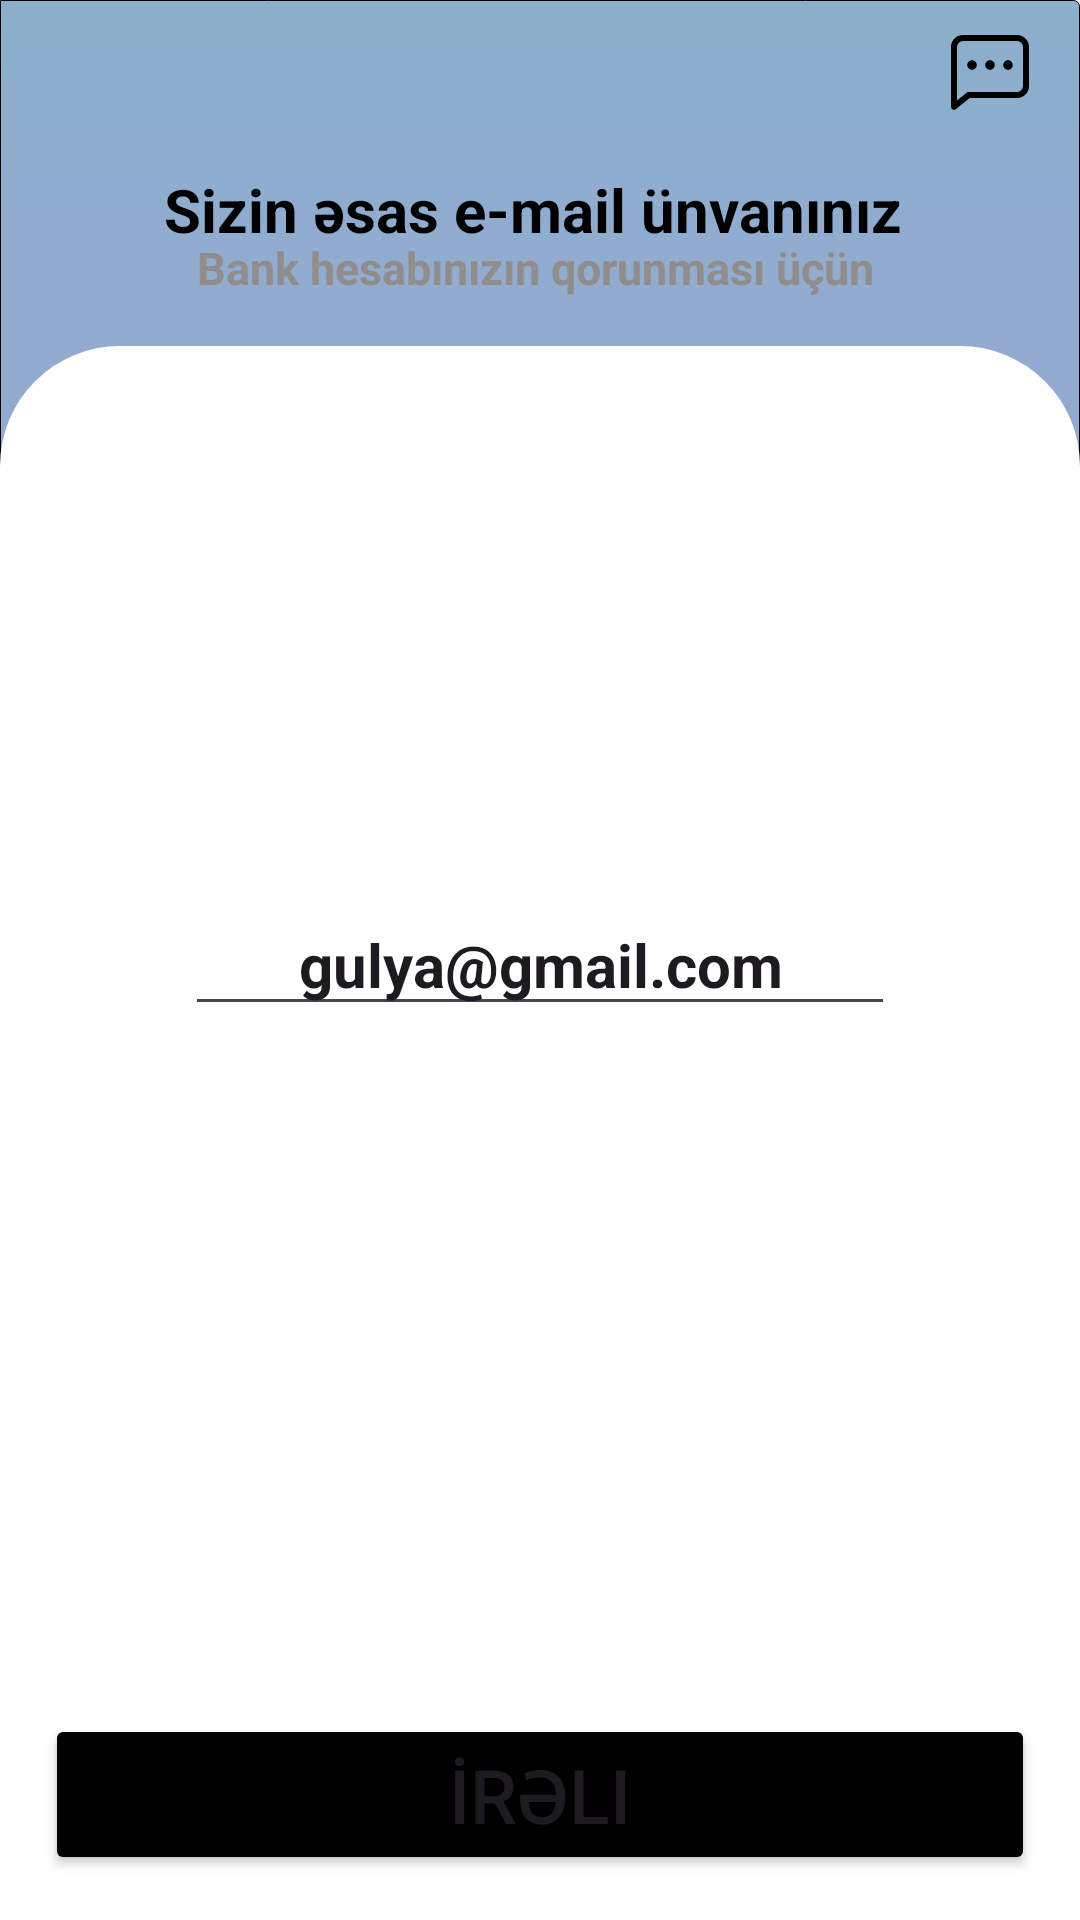

Point at icon controls on the screen. Image size 1080*1920, points as point (x, y).
chat: point (990, 72)
